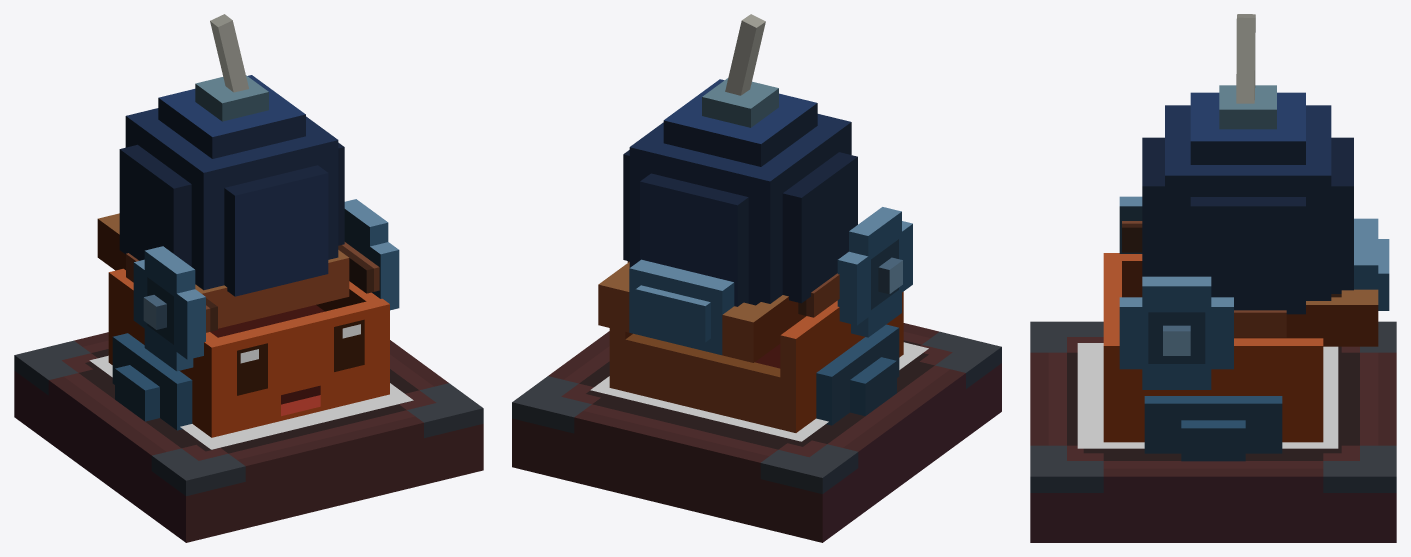
Rendered from Tower_Pult_L4.fbx.
The picture shows the model from 3 angles, left to right: view 1: azimuth 30°, elevation 25°; view 2: azimuth 150°, elevation 25°; view 3: azimuth 270°, elevation 25°; orthographic projection. The views are drawn at different scales.
Visible parts, largest first — view 1: Base, Bomb, Body, Hinge, Bucket, Shadow, Arms; view 2: Base, Bomb, Body, Bucket, Hinge, Shadow, Arms; view 3: Base, Bomb, Body, Hinge, Bucket, Shadow, Arms.
Part boxes in pixels (x1=…): Base: x1=14, y1=332, x2=483, y2=542; Bomb: x1=119, y1=14, x2=344, y2=296; Body: x1=108, y1=268, x2=389, y2=437; Hinge: x1=133, y1=199, x2=399, y2=371; Bucket: x1=97, y1=213, x2=349, y2=328; Shadow: x1=89, y1=355, x2=413, y2=449; Arms: x1=126, y1=242, x2=379, y2=332; Base: x1=512, y1=323, x2=1001, y2=542; Bomb: x1=623, y1=14, x2=857, y2=306; Body: x1=609, y1=291, x2=903, y2=432; Bucket: x1=598, y1=259, x2=806, y2=362; Hinge: x1=837, y1=207, x2=912, y2=337; Shadow: x1=590, y1=342, x2=928, y2=441; Arms: x1=627, y1=261, x2=839, y2=317; Base: x1=1030, y1=321, x2=1396, y2=542; Bomb: x1=1142, y1=14, x2=1353, y2=314; Body: x1=1103, y1=253, x2=1323, y2=461; Hinge: x1=1119, y1=196, x2=1233, y2=389; Bucket: x1=1234, y1=218, x2=1389, y2=346; Shadow: x1=1077, y1=343, x2=1338, y2=448; Arms: x1=1122, y1=221, x2=1286, y2=337.
Size of the model in its own units: 100 by 134 by 100.
